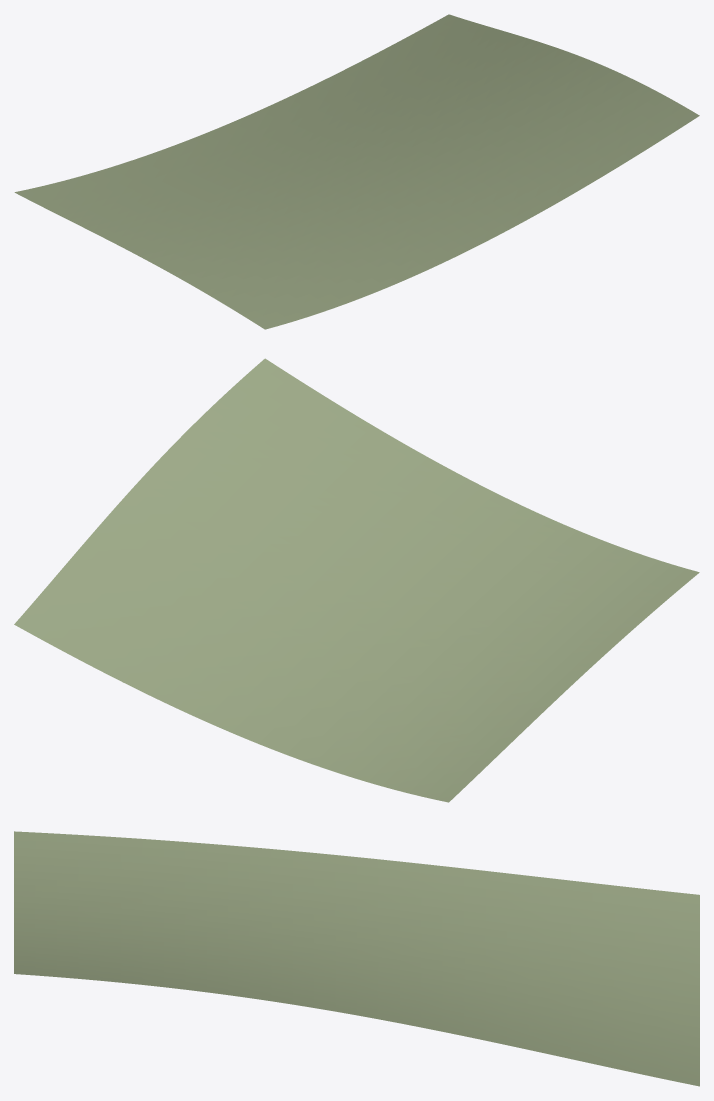
The model's file is expanse-24-11.glb.
3 renders of one model, top to bottom at view 1: azimuth 30°, elevation 25°; view 2: azimuth 150°, elevation 25°; view 3: azimuth 270°, elevation 25°, orthographic. The views are drawn at different scales.
Parts seen in each view (by area): view 1: expanse-24-11; view 2: expanse-24-11; view 3: expanse-24-11.
Boxes of the visible parts, <box> form: expanse-24-11: <box>14,14,699,329</box>; expanse-24-11: <box>14,358,699,802</box>; expanse-24-11: <box>14,831,699,1086</box>.
Size of the model in its own units: 256 by 87.18 by 256.
